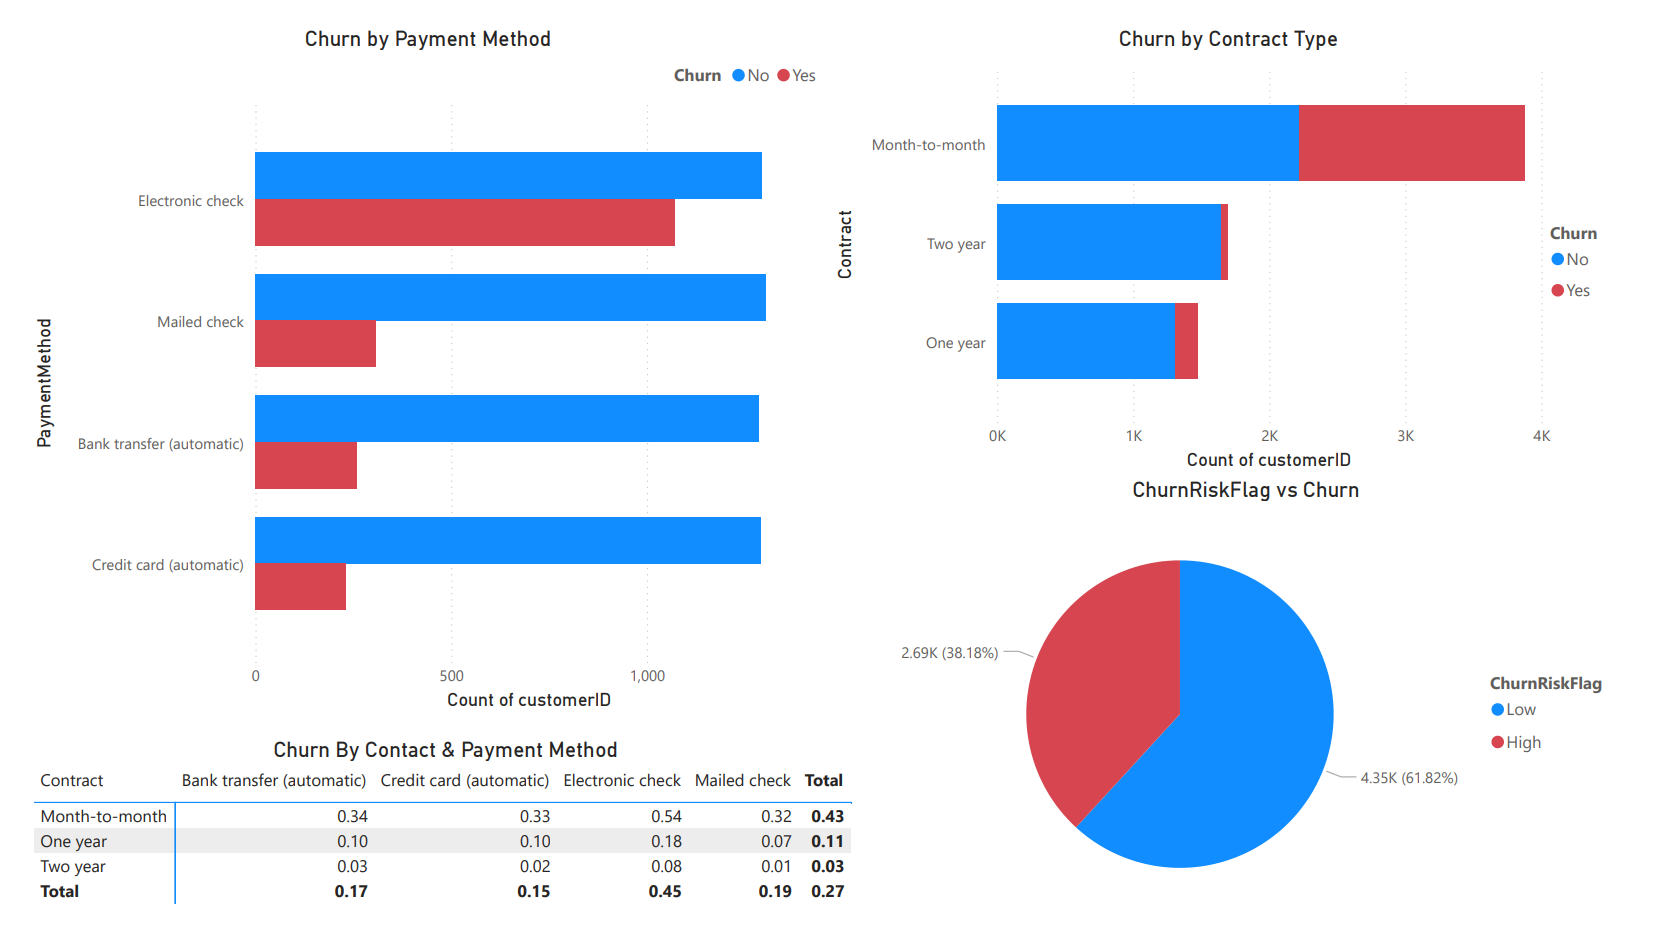

Layout of this report page (visuals, bound fields, positions):
{"tool":"powerbi","page":{"name":"Risk_Segmention_&_Retention_Strategy","canvas":[1280,720],"ordinal":3},"visuals":[{"type":"pieChart","title":"ChurnRiskFlag vs Churn","fields":{"Y":["CountNonNull(churn_data_for_dashboard.customerID)"],"Category":["churn_data_for_dashboard.ChurnRiskFlag"]},"box":[667.8,360.3,612.2,360.3],"z":0},{"type":"barChart","title":"Churn by Contract Type","fields":{"Category":["churn_data_for_dashboard.Contract"],"Series":["churn_data_for_dashboard.Churn"],"Y":["CountNonNull(churn_data_for_dashboard.customerID)"]},"box":[640,0,640,360.3],"z":1000},{"type":"clusteredBarChart","title":"Churn by Payment Method","fields":{"Category":["churn_data_for_dashboard.PaymentMethod"],"Y":["CountNonNull(churn_data_for_dashboard.customerID)"],"Series":["churn_data_for_dashboard.Churn"]},"box":[0,0,640,551],"z":2000},{"type":"pivotTable","title":"Churn By Contact & Payment Method","fields":{"Rows":["churn_data_for_dashboard.Contract"],"Values":["churn_data_for_dashboard.Churn Rate"],"Columns":["churn_data_for_dashboard.PaymentMethod"]},"box":[0,567.7,667.8,153],"z":3000}]}

Visuals, with their boxes in screenshot pixels (x1, y1, x2, y2), scaled from the page's 1280x720 canvas onto the 1655x952 screenshot:
"ChurnRiskFlag vs Churn" pieChart: x1=863, y1=476, x2=1654, y2=951
"Churn by Contract Type" barChart: x1=828, y1=0, x2=1654, y2=476
"Churn by Payment Method" clusteredBarChart: x1=0, y1=0, x2=828, y2=729
"Churn By Contact & Payment Method" pivotTable: x1=0, y1=751, x2=863, y2=951
